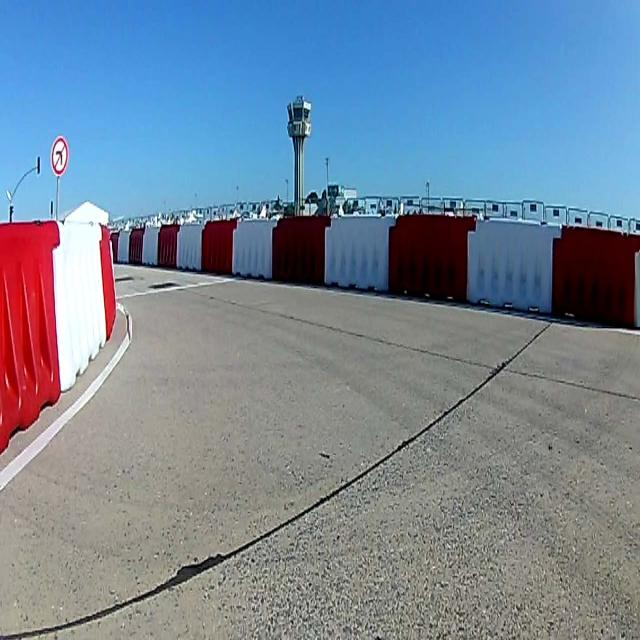soladonulmez: (51, 138, 68, 172)
